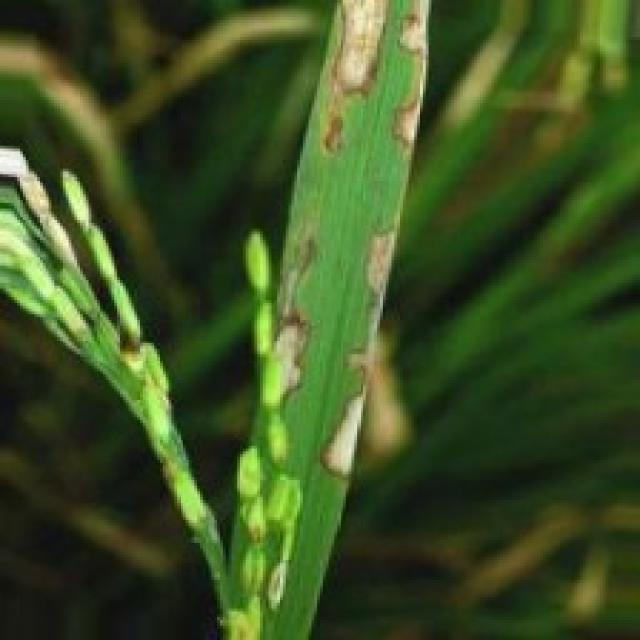Bacterial_Blight: (250, 235, 329, 426), (314, 323, 380, 485), (386, 0, 437, 154), (323, 2, 388, 98), (360, 227, 409, 302), (314, 110, 354, 162)
